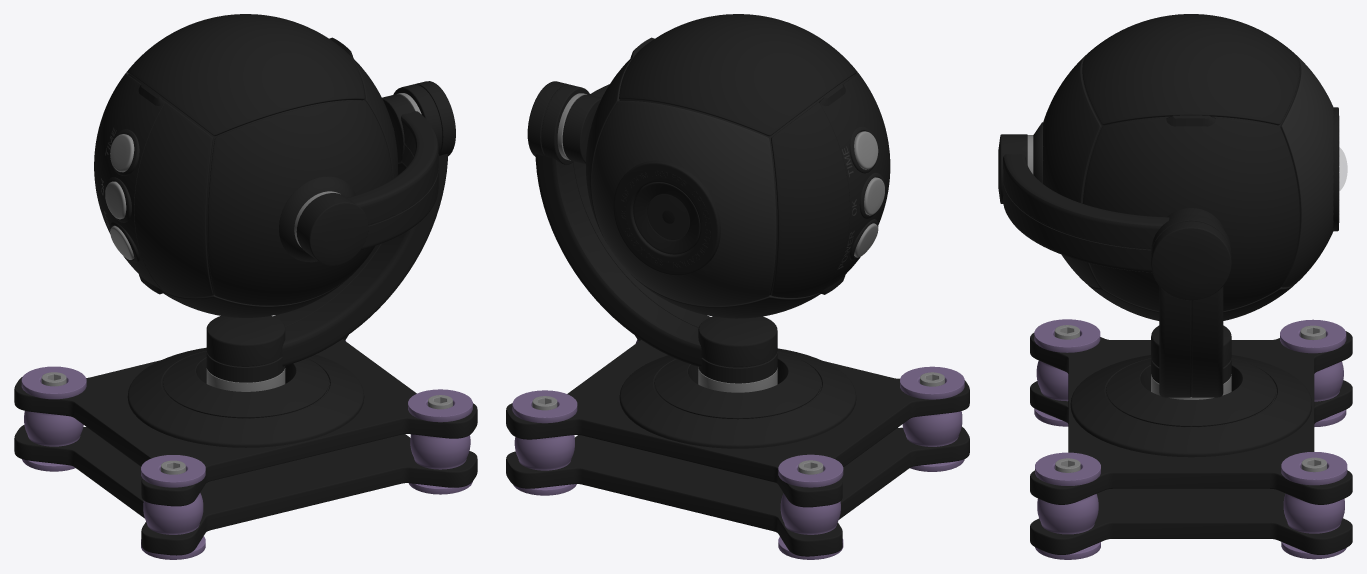
Rendered from Camera.fbx.
3 renders of one model, left to right at view 1: azimuth 30°, elevation 25°; view 2: azimuth 150°, elevation 25°; view 3: azimuth 270°, elevation 25°, orthographic. The views are drawn at different scales.
Visible parts, largest first — view 1: Box026, Rectangle003, Rectangle002, Rectangle001, Object020, Object023, Object015, Object019.002, Object019, Object019.004, Cylinder001; view 2: Box026, Rectangle003, Object022, Rectangle002, Rectangle001, Object020, Tube002, Object015, Object019.001, Object019.004, Object019, Cylinder002 (+2 smaller); view 3: Box026, Rectangle003, Rectangle001, Object020, Rectangle002, Object022, Object019.002, Object019.001, Object019.004, Object019, Object023, Cylinder001 (+1 smaller).
Boxes of the visible parts, bbox=[...] form: Box026: bbox=[94, 14, 397, 317]; Rectangle003: bbox=[127, 81, 455, 447]; Rectangle002: bbox=[14, 425, 477, 555]; Rectangle001: bbox=[14, 335, 477, 506]; Object020: bbox=[273, 110, 447, 366]; Object023: bbox=[279, 176, 368, 265]; Object015: bbox=[101, 86, 164, 291]; Object019.002: bbox=[408, 389, 472, 494]; Object019: bbox=[21, 366, 86, 471]; Object019.004: bbox=[141, 455, 205, 559]; Cylinder001: bbox=[41, 372, 185, 474]; Box026: bbox=[586, 14, 890, 318]; Rectangle003: bbox=[527, 81, 856, 448]; Object022: bbox=[591, 101, 776, 306]; Rectangle002: bbox=[506, 427, 969, 556]; Rectangle001: bbox=[506, 335, 969, 507]; Object020: bbox=[535, 84, 710, 367]; Tube002: bbox=[613, 160, 720, 275]; Object015: bbox=[820, 86, 885, 292]; Object019.001: bbox=[512, 390, 577, 495]; Object019.004: bbox=[900, 366, 964, 471]; Object019: bbox=[778, 454, 843, 559]; Cylinder002: bbox=[641, 184, 689, 239]; Box026: bbox=[1043, 14, 1299, 320]; Rectangle003: bbox=[1070, 208, 1311, 457]; Rectangle001: bbox=[1030, 331, 1352, 504]; Object020: bbox=[1003, 154, 1223, 397]; Rectangle002: bbox=[1030, 380, 1352, 554]; Object022: bbox=[1280, 55, 1333, 287]; Object019.002: bbox=[1035, 452, 1100, 559]; Object019.001: bbox=[1281, 451, 1347, 559]; Object019.004: bbox=[1034, 319, 1100, 426]; Object019: bbox=[1280, 319, 1346, 426]; Object023: bbox=[998, 122, 1043, 203]; Cylinder001: bbox=[1054, 325, 1326, 472].
Size of the model in its own units: 52.16 by 61.6 by 43.71.
